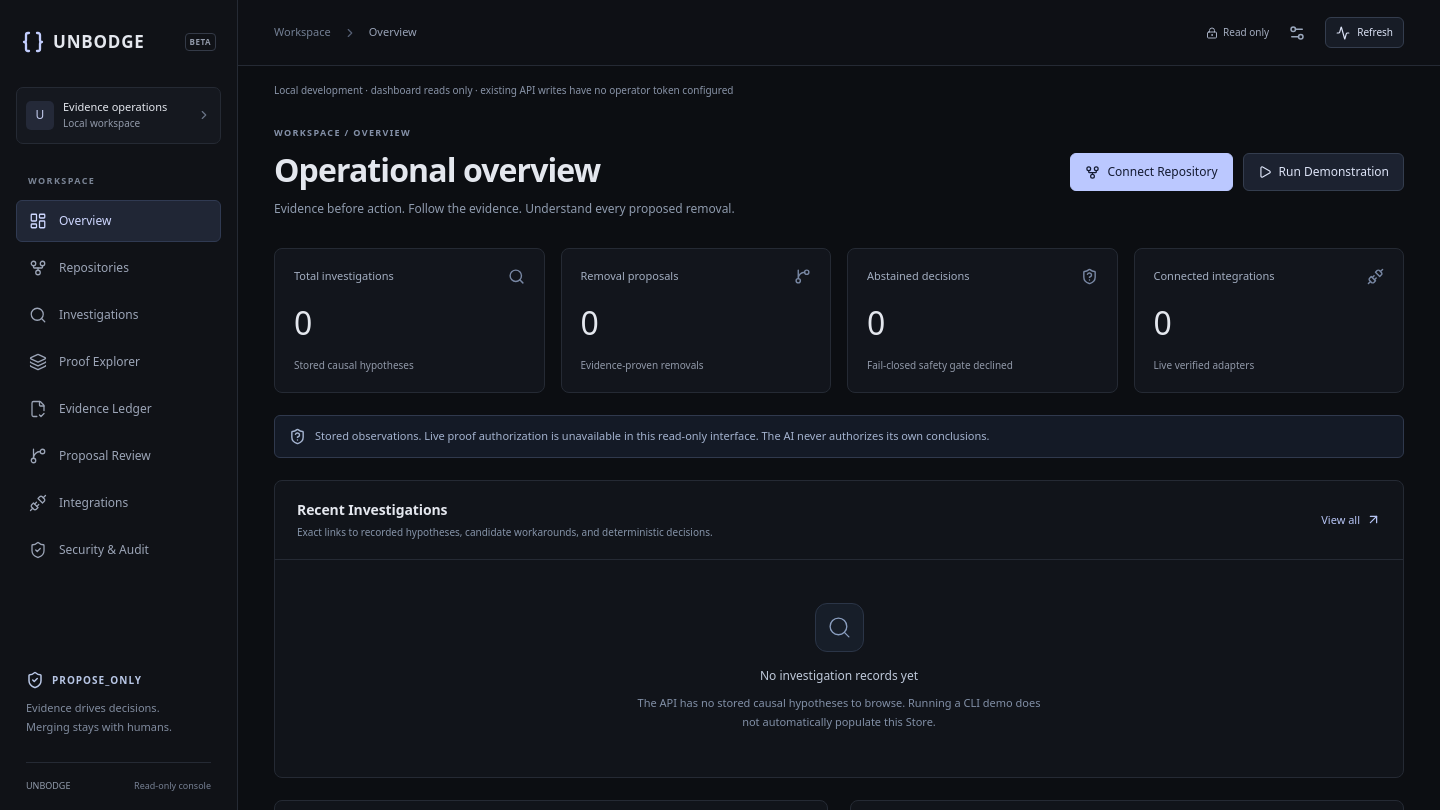
Test: loads real counts then navigates with keyboard accessible links
This screenshot has width=1440, height=810.
Later steps or results of the test are not shown.
Check: the heading "Operational overview" is shown, box left=274, top=148, right=600, bottom=191
Click the link "Investigations".
click(84, 315)  # box left=29, top=306, right=138, bottom=324
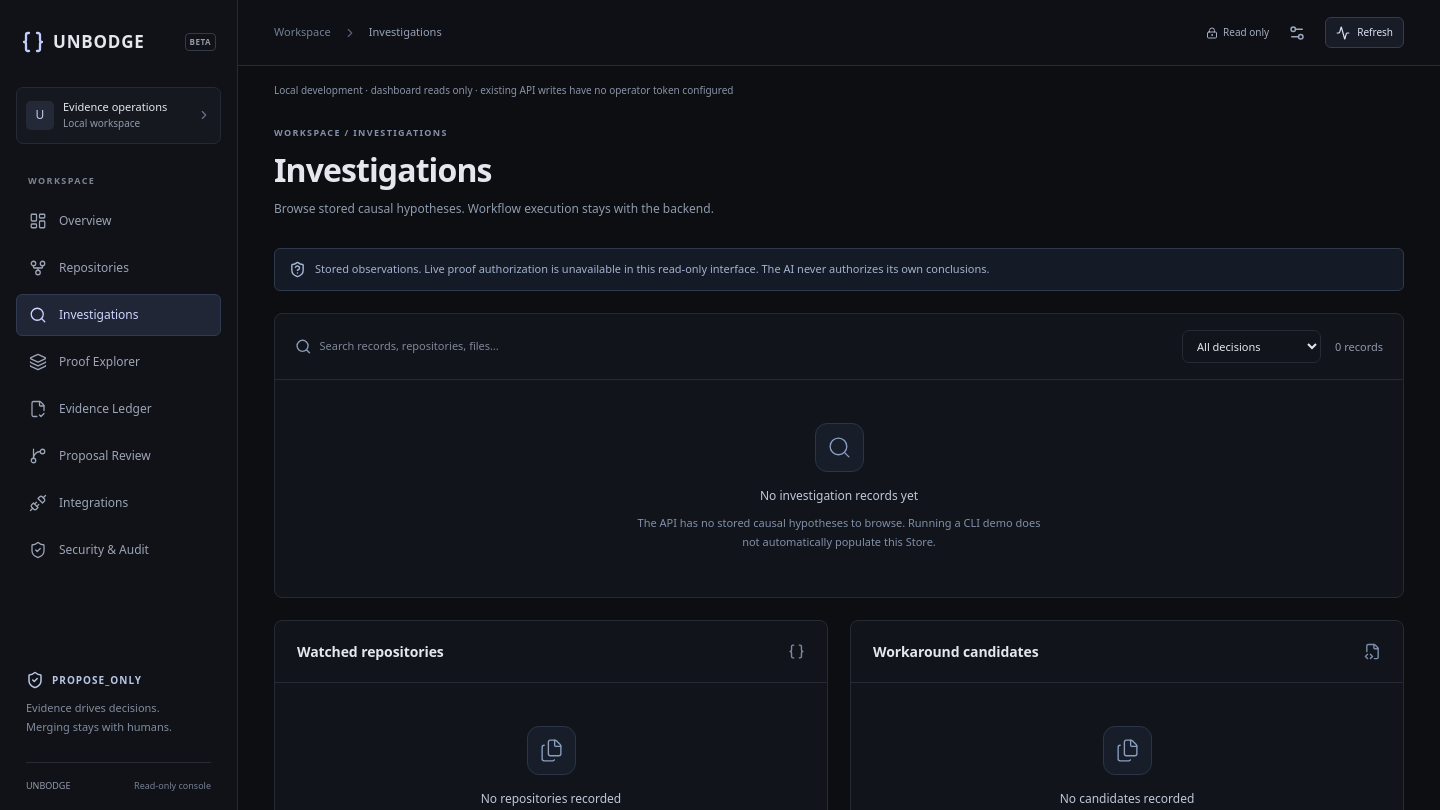
Check: the heading "No investigation records yet" is shown, box left=760, top=487, right=918, bottom=504
Check: the heading "Investigations" is shown, box left=274, top=148, right=492, bottom=191
